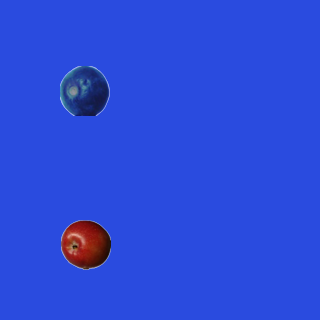Apple Braeburn: (60, 219, 110, 269)
Huckleberry: (59, 65, 109, 115)
